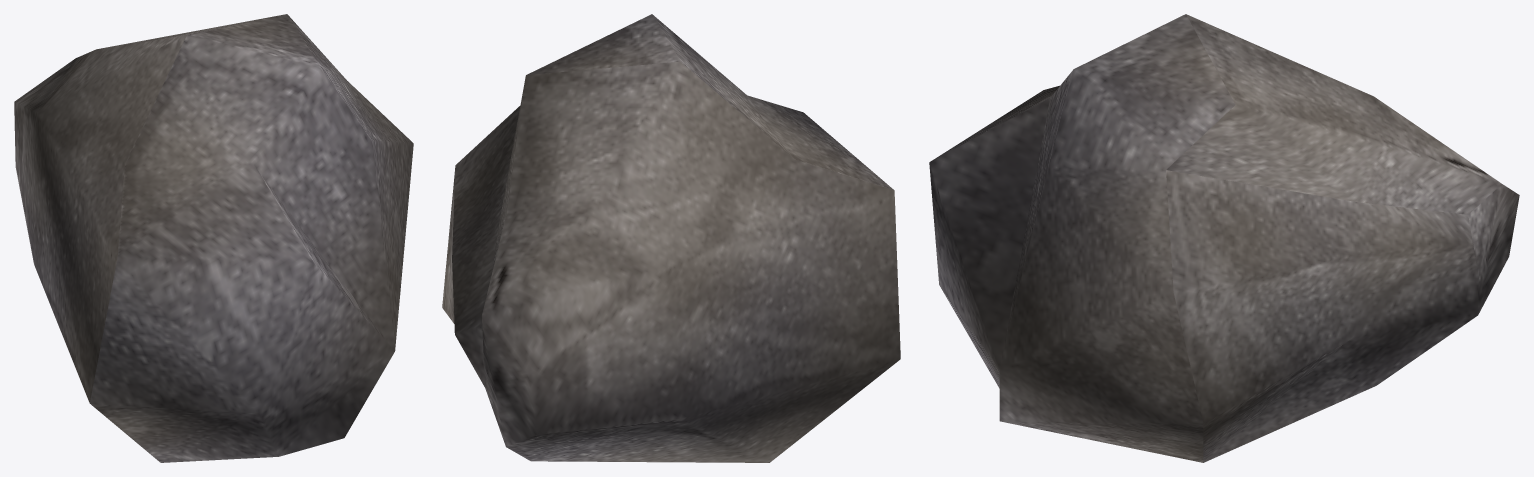
File: Asteroid_piece_04.FBX
The picture shows the model from 3 angles, left to right: view 1: azimuth 30°, elevation 25°; view 2: azimuth 150°, elevation 25°; view 3: azimuth 270°, elevation 25°; orthographic projection. The views are drawn at different scales.
Parts seen in each view (by area): view 1: Asteroid_piece_04; view 2: Asteroid_piece_04; view 3: Asteroid_piece_04.
Boxes of the visible parts, box(x1,y1,x2,y2) form: Asteroid_piece_04: box(14, 14, 413, 462); Asteroid_piece_04: box(442, 14, 900, 462); Asteroid_piece_04: box(929, 14, 1519, 462).
Size of what is drawn, in the model's own units: 38.35 by 38.3 by 49.8.
